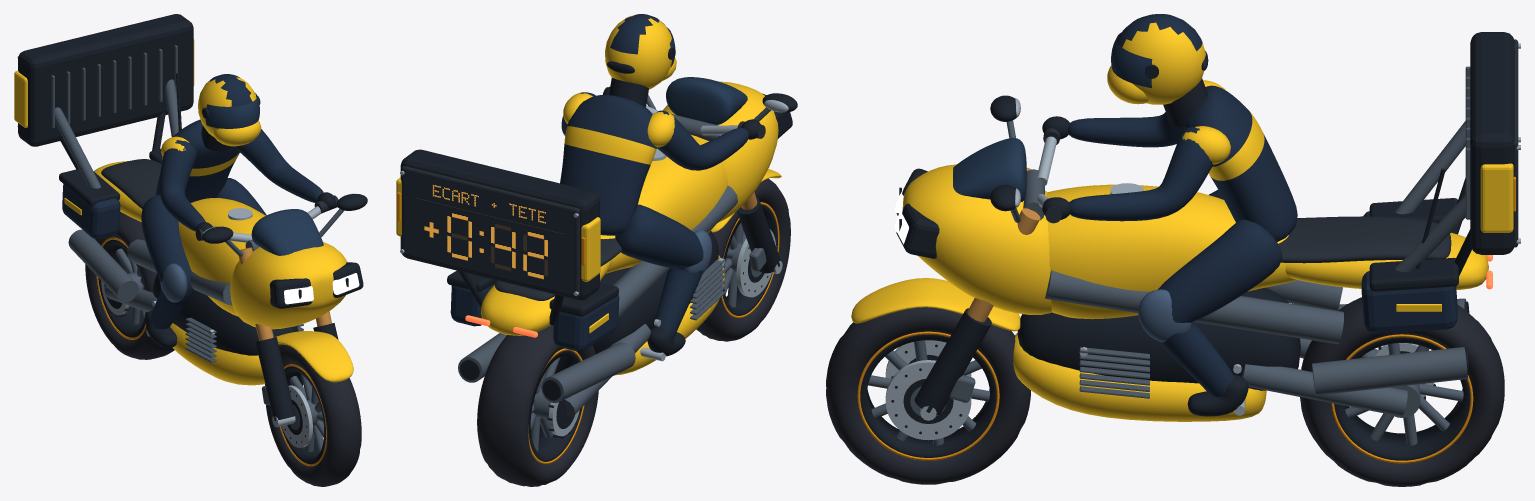
Rendered from moto-chrono-reel-beta.glb.
The picture shows the model from 3 angles, left to right: view 1: azimuth 30°, elevation 25°; view 2: azimuth 150°, elevation 25°; view 3: azimuth 270°, elevation 25°; orthographic projection. The views are drawn at different scales.
Parts seen in each view (by area): view 1: Moto_Chrono_Carbone graphite, Moto_Chrono_Jaune course, Moto_Chrono_Bleu nuit, Moto_Chrono_Acier foncé, Roue_AV_Pneumatiques, Moto_Chrono_Visière fumée, Roue_AR_Pneumatiques, Moto_Chrono_Bleu nuit.001, Moto_Chrono_Assise et poignées, Moto_Chrono_Jaune course.001, Roue_AR_Carbone graphite, Roue_AV_Carbone graphite (+7 smaller); view 2: Moto_Chrono_Jaune course, Moto_Chrono_Carbone graphite, Chrono_Ecran, Moto_Chrono_Bleu nuit, Roue_AR_Pneumatiques, Moto_Chrono_Bleu nuit.001, Moto_Chrono_Acier foncé, Roue_AV_Pneumatiques, Moto_Chrono_Jaune course.001, Moto_Chrono_Assise et poignées, Moto_Chrono_Visière fumée, Roue_AR_Carbone graphite (+7 smaller); view 3: Moto_Chrono_Jaune course, Moto_Chrono_Carbone graphite, Moto_Chrono_Acier foncé, Moto_Chrono_Bleu nuit, Roue_AV_Pneumatiques, Roue_AR_Pneumatiques, Moto_Chrono_Bleu nuit.001, Moto_Chrono_Assise et poignées, Moto_Chrono_Jaune course.001, Roue_AV_Carbone graphite, Moto_Chrono_Visière fumée, Roue_AR_Carbone graphite (+8 smaller).
Part boxes in pixels (x1=…): Moto_Chrono_Carbone graphite: x1=18, y1=14, x2=367, y2=420; Moto_Chrono_Jaune course: x1=14, y1=39, x2=353, y2=385; Moto_Chrono_Bleu nuit: x1=62, y1=129, x2=323, y2=329; Moto_Chrono_Acier foncé: x1=51, y1=45, x2=343, y2=405; Roue_AV_Pneumatiques: x1=265, y1=344, x2=361, y2=486; Moto_Chrono_Visière fumée: x1=205, y1=93, x2=323, y2=255; Roue_AR_Pneumatiques: x1=85, y1=212, x2=174, y2=359; Moto_Chrono_Bleu nuit.001: x1=156, y1=119, x2=239, y2=202; Moto_Chrono_Assise et poignées: x1=101, y1=159, x2=338, y2=240; Moto_Chrono_Jaune course.001: x1=198, y1=74, x2=256, y2=137; Roue_AR_Carbone graphite: x1=98, y1=239, x2=147, y2=337; Roue_AV_Carbone graphite: x1=281, y1=366, x2=325, y2=464; Moto_Chrono_Jaune course: x1=396, y1=57, x2=781, y2=375; Moto_Chrono_Carbone graphite: x1=400, y1=48, x2=797, y2=400; Chrono_Ecran: x1=404, y1=170, x2=574, y2=294; Moto_Chrono_Bleu nuit: x1=450, y1=92, x2=749, y2=351; Roue_AR_Pneumatiques: x1=477, y1=325, x2=598, y2=486; Moto_Chrono_Bleu nuit.001: x1=560, y1=94, x2=656, y2=235; Moto_Chrono_Acier foncé: x1=458, y1=94, x2=770, y2=417; Roue_AV_Pneumatiques: x1=696, y1=178, x2=790, y2=341; Moto_Chrono_Jaune course.001: x1=605, y1=14, x2=671, y2=89; Moto_Chrono_Assise et poignées: x1=402, y1=87, x2=765, y2=300; Moto_Chrono_Visière fumée: x1=666, y1=27, x2=747, y2=124; Roue_AR_Carbone graphite: x1=528, y1=350, x2=582, y2=461; Moto_Chrono_Jaune course: x1=851, y1=65, x2=1513, y2=421; Moto_Chrono_Carbone graphite: x1=896, y1=32, x2=1514, y2=416; Moto_Chrono_Acier foncé: x1=949, y1=66, x2=1470, y2=416; Moto_Chrono_Bleu nuit: x1=1068, y1=112, x2=1457, y2=397; Roue_AV_Pneumatiques: x1=826, y1=307, x2=1030, y2=484; Roue_AR_Pneumatiques: x1=1300, y1=297, x2=1504, y2=486; Moto_Chrono_Bleu nuit.001: x1=1183, y1=85, x2=1297, y2=241; Moto_Chrono_Assise et poignées: x1=1043, y1=39, x2=1518, y2=263; Moto_Chrono_Jaune course.001: x1=1117, y1=14, x2=1205, y2=104; Roue_AV_Carbone graphite: x1=857, y1=331, x2=999, y2=457; Moto_Chrono_Visière fumée: x1=953, y1=32, x2=1152, y2=202; Roue_AR_Carbone graphite: x1=1334, y1=334, x2=1473, y2=460.
Bounding box in the file's own units: 0.854 × 1.63 × 2.22.
Materials: 14 (1 with a texture image).
